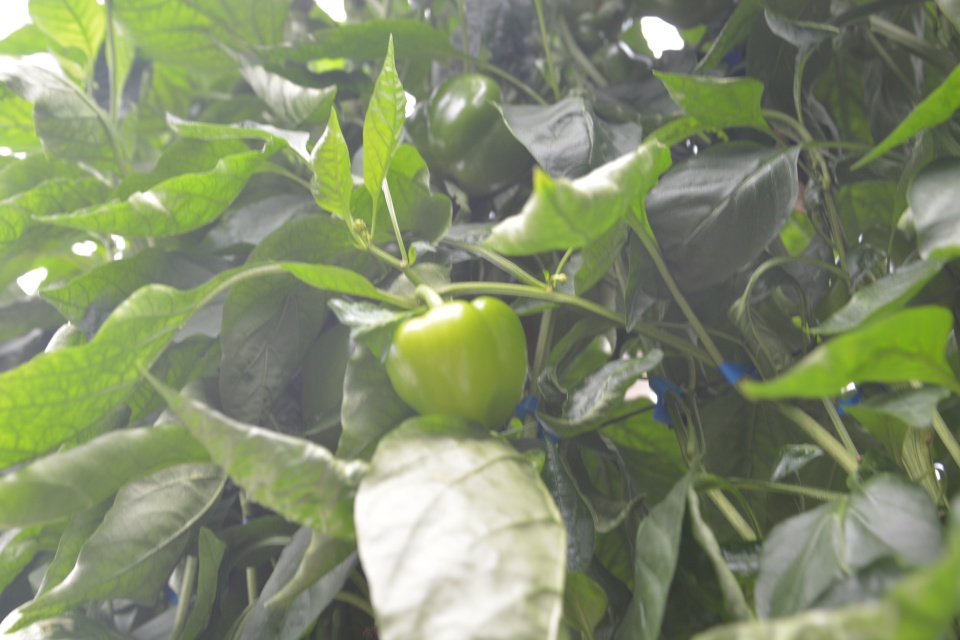fruit: (382, 292, 528, 434), (404, 70, 534, 200), (588, 39, 653, 124), (573, 0, 626, 53)
